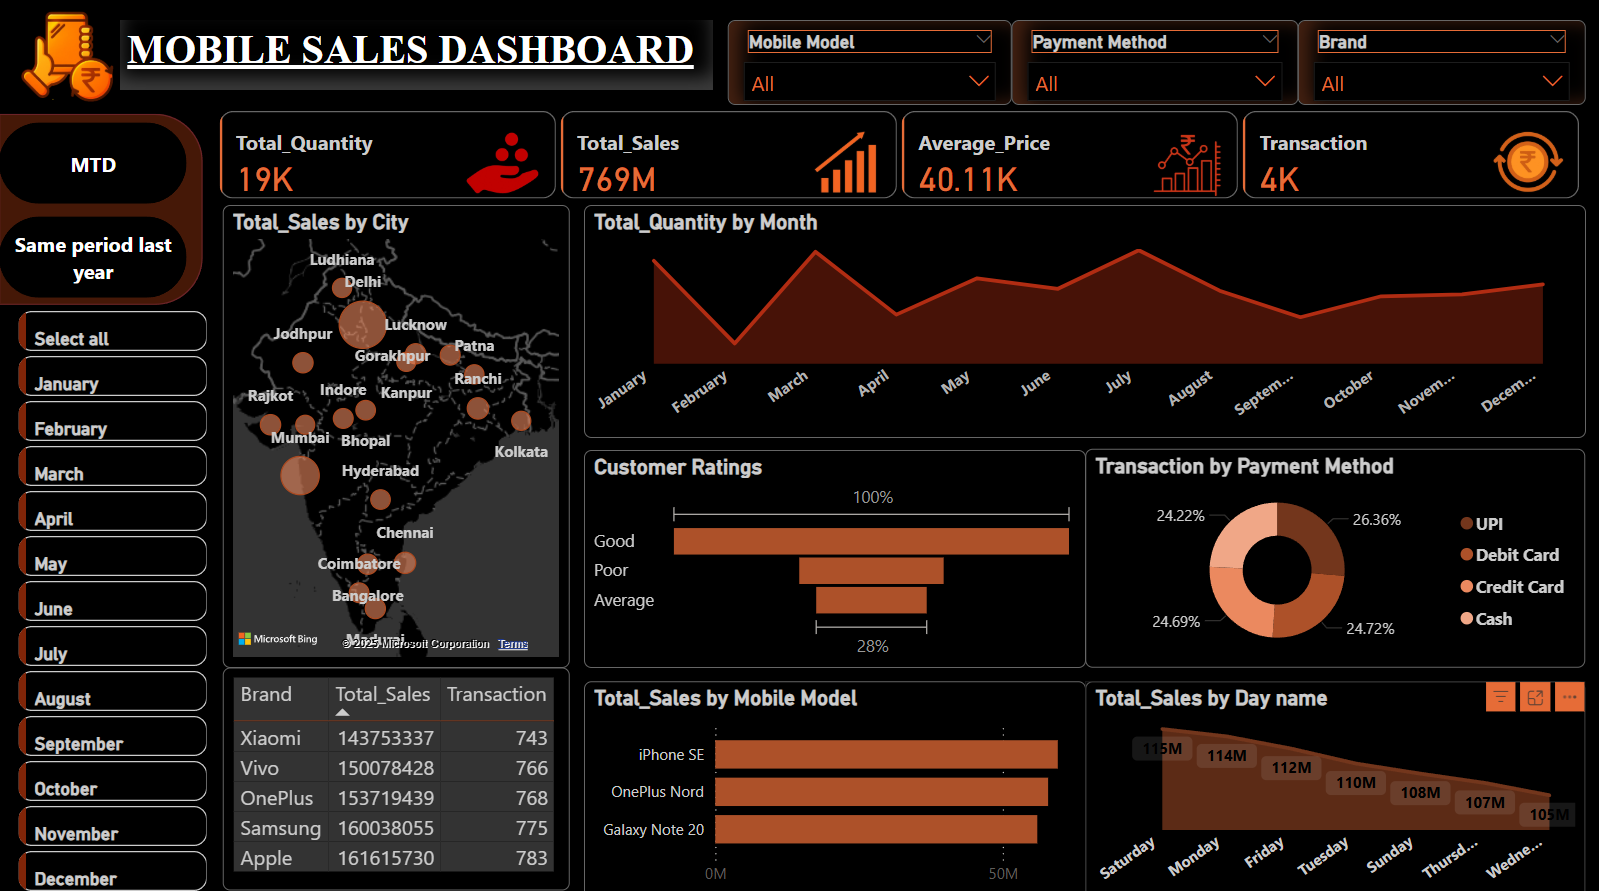

What the dashboard file says about the page in this screenshot:
{"tool":"powerbi","page":{"name":"Dashboard","canvas":[1280,720],"ordinal":0},"visuals":[{"type":"advancedSlicerVisual","fields":{"Values":["Custom_calender.Date.Variation.Date Hierarchy.Month"]},"box":[10,243.8,161.2,476.2],"z":0},{"type":"cardVisual","fields":{"Data":["Sales_data.Total_Quantity","Sales_data.Total_Sales","Sales_data.Average_Price","Sales_data.Transaction"]},"box":[171.2,83.8,1097.5,80],"z":1000},{"type":"map","fields":{"Category":["Sales_data.City"],"Size":["Sales_data.Total_Sales"]},"box":[179.1,164,276.7,369.8],"z":2000},{"type":"lineChart","fields":{"Y":["Sales_data.Total_Quantity"],"Category":["Custom_calender.Date.Variation.Date Hierarchy.Month"]},"box":[467.5,163.8,801.2,186.2],"z":3000},{"type":"funnel","title":"Customer Ratings ","fields":{"Y":["CountNonNull(Sales_data.Customer Ratings)"],"Category":["Sales_data.Rating Status"]},"box":[467.5,360,401.2,173.8],"z":4000},{"type":"donutChart","fields":{"Y":["Sales_data.Transaction"],"Category":["Sales_data.Payment Method"]},"box":[868.8,358.8,400,175],"z":5000},{"type":"clusteredBarChart","fields":{"Y":["Sales_data.Total_Sales"],"Category":["Sales_data.Mobile Model"]},"box":[467.5,545,401.2,175],"z":6000},{"type":"areaChart","fields":{"Category":["Custom_calender.Day name"],"Y":["Sales_data.Total_Sales"]},"box":[868.8,545,400,175],"z":7000},{"type":"tableEx","fields":{"Values":["Sales_data.Brand","Sales_data.Total_Sales","Sales_data.Transaction"]},"box":[179.1,533.7,276.7,177.9],"z":8000},{"type":"slicer","fields":{"Values":["Sales_data.Mobile Model"]},"box":[582.5,16.2,227.5,67.5],"z":9000},{"type":"slicer","fields":{"Values":["Sales_data.Payment Method"]},"box":[810,16.2,228.8,67.5],"z":10000},{"type":"slicer","fields":{"Values":["Sales_data.Brand"]},"box":[1038.8,16.2,230,67.5],"z":11000},{"type":"shape","box":[0,91.2,162.5,152.5],"z":12000},{"type":"textbox","box":[96.5,16.3,474.4,55.8],"z":13000},{"type":"image","box":[0,0,109.3,103.5],"z":14000},{"type":"pageNavigator","box":[0,97.5,150,140],"z":15000}]}

Visuals, with their boxes in screenshot pixels (x1, y1, x2, y2), scaled from the page's 1280x720 canvas onto the 1599x891 screenshot:
advancedSlicerVisual - Custom_calender.Date.Variation.Date Hierarchy.Month: 12, 302, 214, 890
cardVisual - Sales_data.Total_Quantity x Sales_data.Total_Sales: 214, 104, 1585, 203
map - Sales_data.City x Sales_data.Total_Sales: 224, 203, 569, 661
lineChart - Sales_data.Total_Quantity x Custom_calender.Date.Variation.Date Hierarchy.Month: 584, 203, 1585, 433
"Customer Ratings " funnel: 584, 446, 1085, 661
donutChart - Sales_data.Transaction x Sales_data.Payment Method: 1085, 444, 1585, 661
clusteredBarChart - Sales_data.Total_Sales x Sales_data.Mobile Model: 584, 674, 1085, 890
areaChart - Custom_calender.Day name x Sales_data.Total_Sales: 1085, 674, 1585, 890
tableEx - Sales_data.Brand x Sales_data.Total_Sales: 224, 660, 569, 881
slicer - Sales_data.Mobile Model: 728, 20, 1012, 104
slicer - Sales_data.Payment Method: 1012, 20, 1298, 104
slicer - Sales_data.Brand: 1298, 20, 1585, 104
shape: 0, 113, 203, 302
textbox: 121, 20, 713, 89
image: 0, 0, 137, 128
pageNavigator: 0, 121, 187, 294
